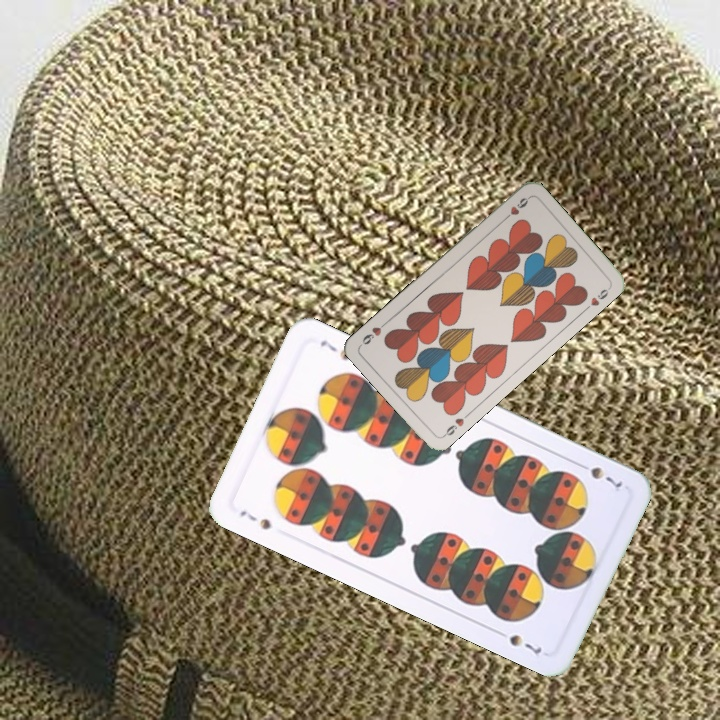H9: (498, 193, 532, 224), (439, 414, 467, 440)
S7: (573, 458, 625, 490), (235, 506, 274, 533)
